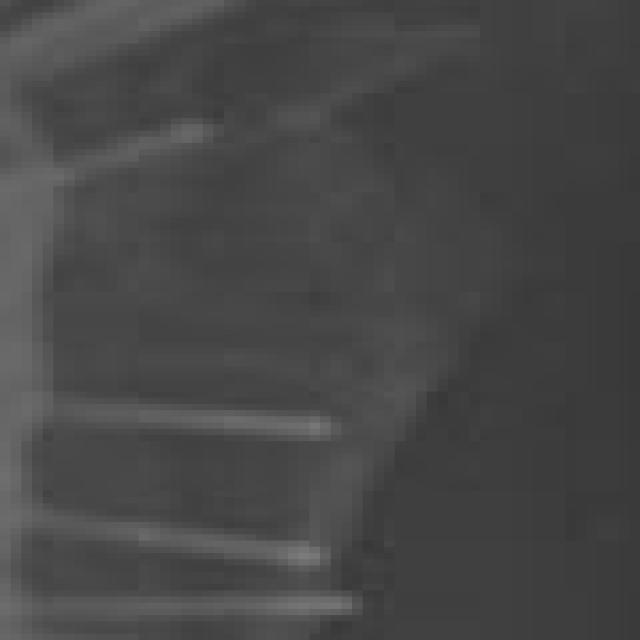fracture: (1, 1, 640, 640)
